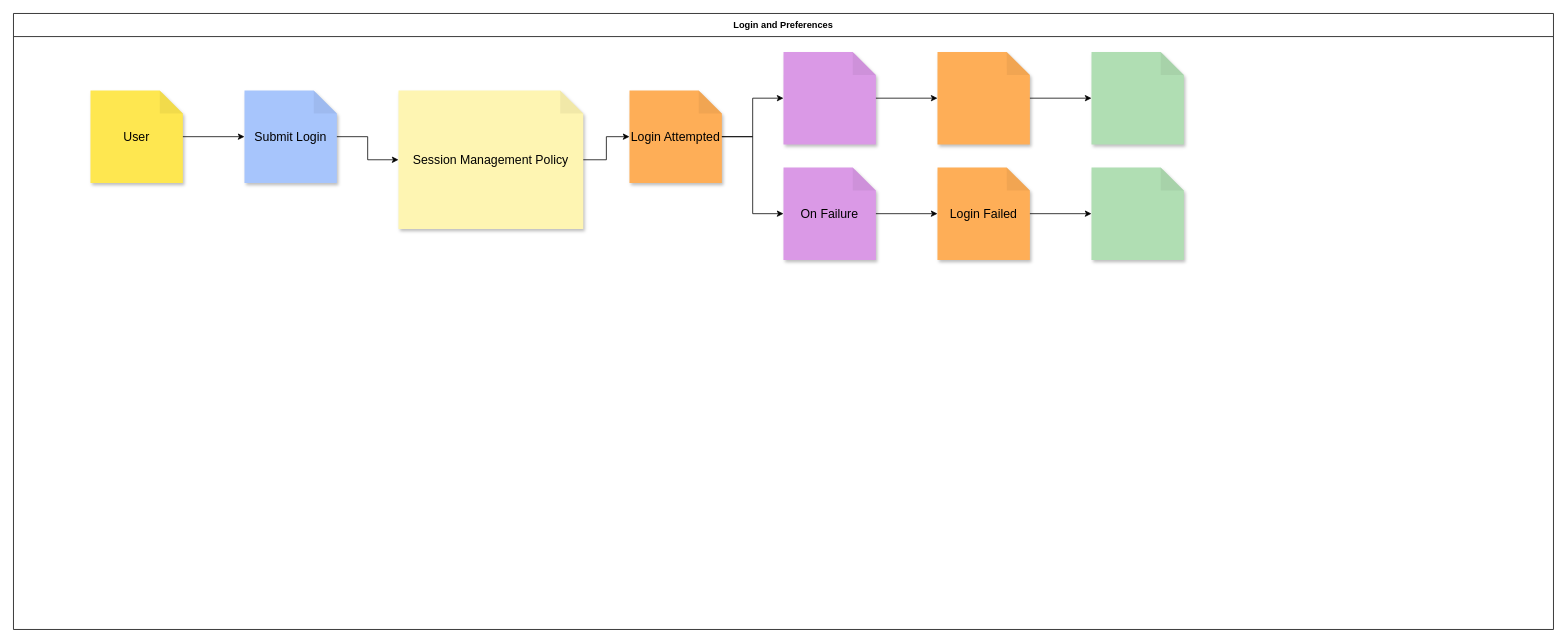
This 1567x643 diagram has some shape labels left out. Each missing label, with the centre of its shape:
"Dashboard" goes at (1138,99).
"Login Page" goes at (1138,214).
"Login Succeeded" goes at (984,99).
"On Success" goes at (830,99).
